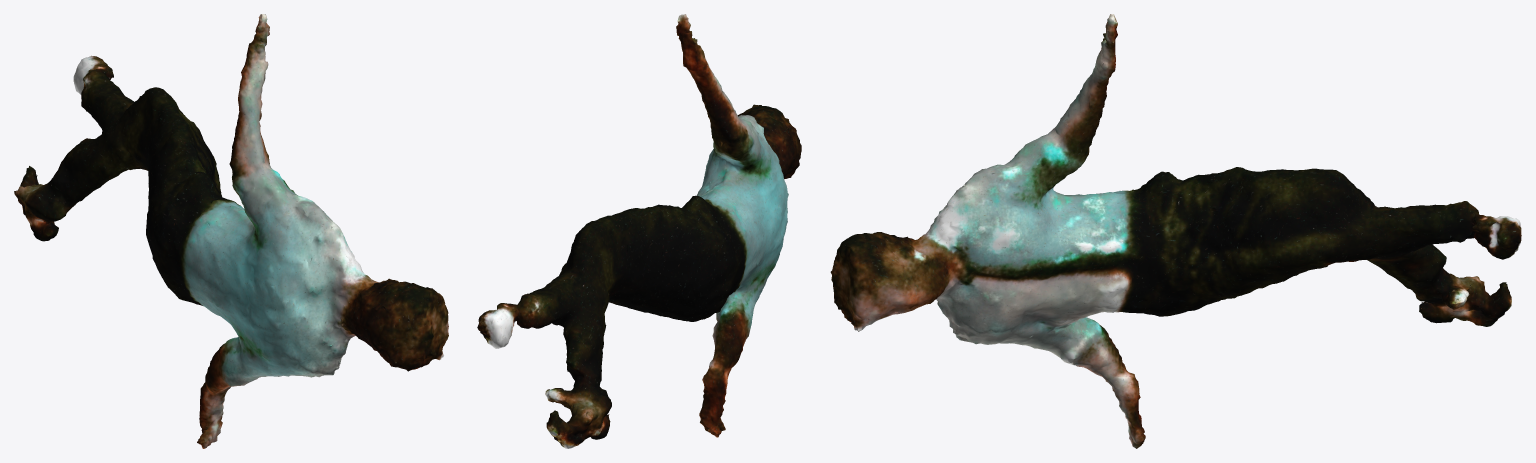
The model's file is lalaland_before.gltf.
3 renders of one model, left to right at view 1: azimuth 30°, elevation 25°; view 2: azimuth 150°, elevation 25°; view 3: azimuth 270°, elevation 25°, orthographic. The views are drawn at different scales.
Visible parts, largest first — view 1: model; view 2: model; view 3: model.
Part boxes in pixels (x1=…): model: x1=14, y1=14, x2=448, y2=448; model: x1=477, y1=14, x2=801, y2=448; model: x1=830, y1=14, x2=1521, y2=448.
Size of the model in its own units: 0.3224 by 0.9009 by 1.23.
1 material, 1 textured.
